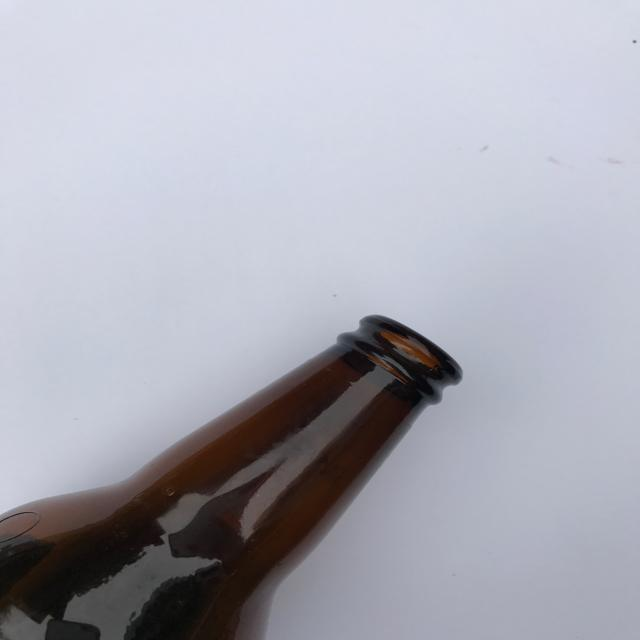glass: (1, 313, 463, 639)
